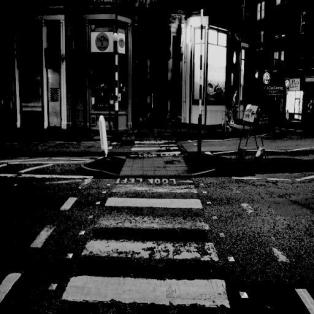Paso de Cebra: (60, 238, 230, 310), (104, 183, 204, 212)
